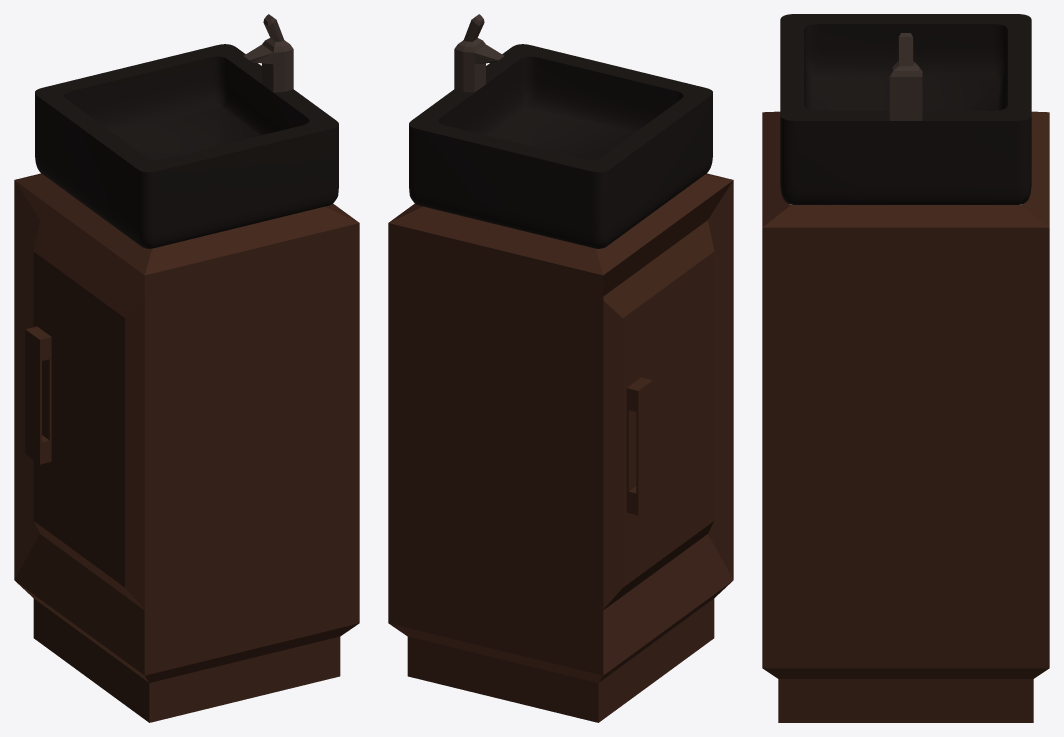
Rendered from SinkLeft.fbx.
The picture shows the model from 3 angles, left to right: view 1: azimuth 30°, elevation 25°; view 2: azimuth 150°, elevation 25°; view 3: azimuth 270°, elevation 25°; orthographic projection. The views are drawn at different scales.
Parts seen in each view (by area): view 1: Left Cabnit Sink003; view 2: Left Cabnit Sink003; view 3: Left Cabnit Sink003.
Boxes of the visible parts, <box> form: Left Cabnit Sink003: <box>14,14,359,722</box>; Left Cabnit Sink003: <box>388,14,733,722</box>; Left Cabnit Sink003: <box>762,14,1049,722</box>.
Size of the model in its own units: 33.47 by 87.47 by 33.3.
